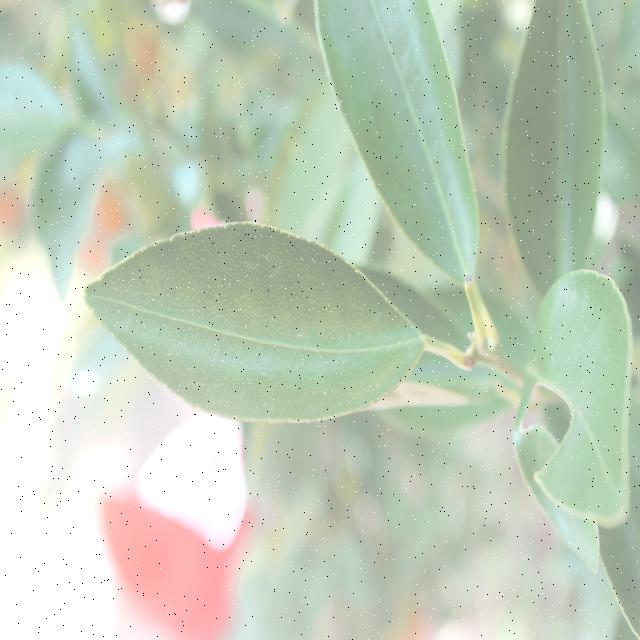healthy: (106, 234, 414, 424), (321, 2, 480, 274)
